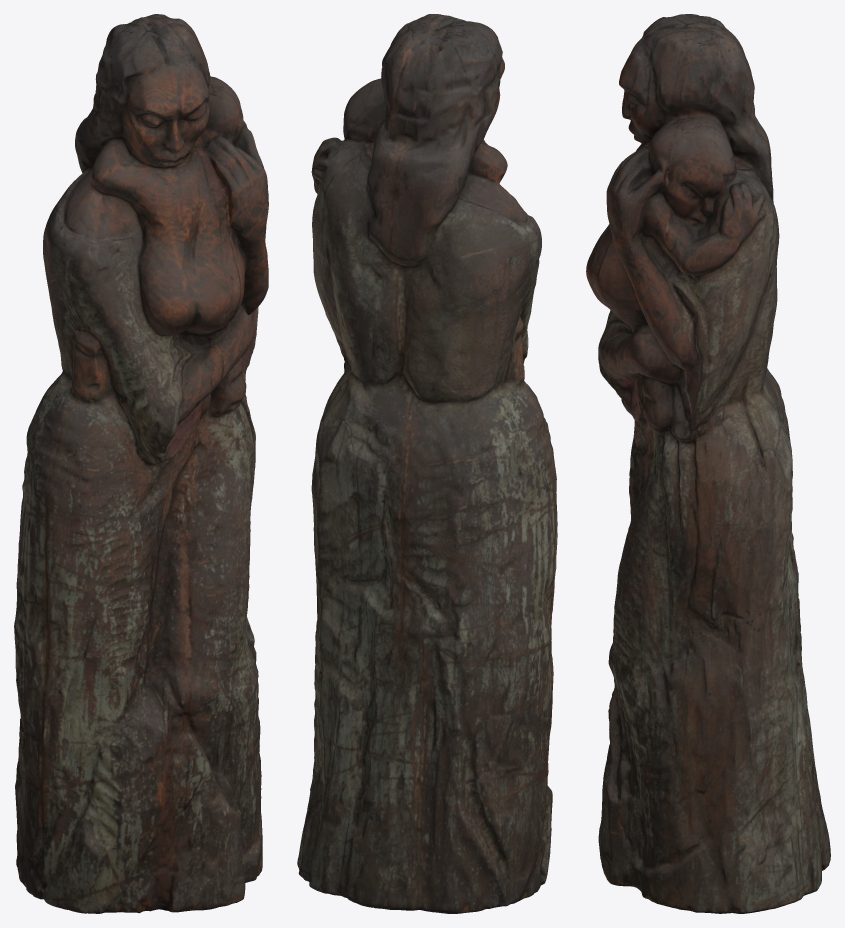
File: mujer-y-nino.glb
3 renders of one model, left to right at view 1: azimuth 30°, elevation 25°; view 2: azimuth 150°, elevation 25°; view 3: azimuth 270°, elevation 25°, orthographic. The views are drawn at different scales.
Bounding box in the file's own units: 0.3391 × 1.2 × 0.3181.
Materials: 1 (1 with a texture image).
